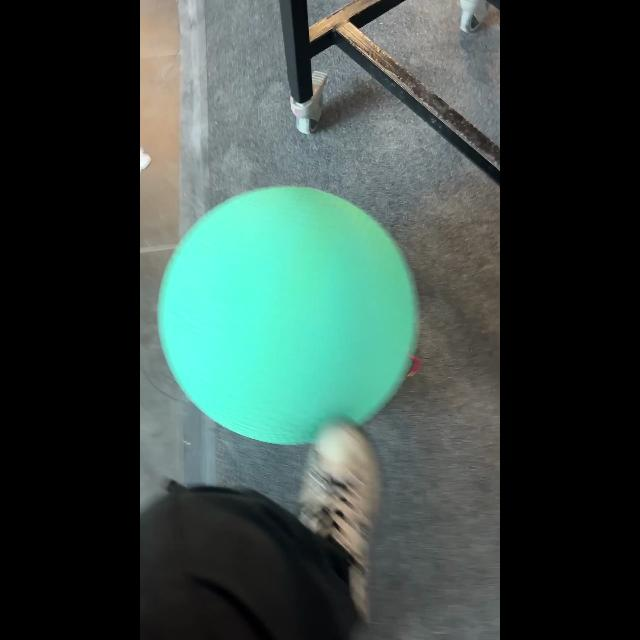ALGAE: (156, 184, 420, 446)
